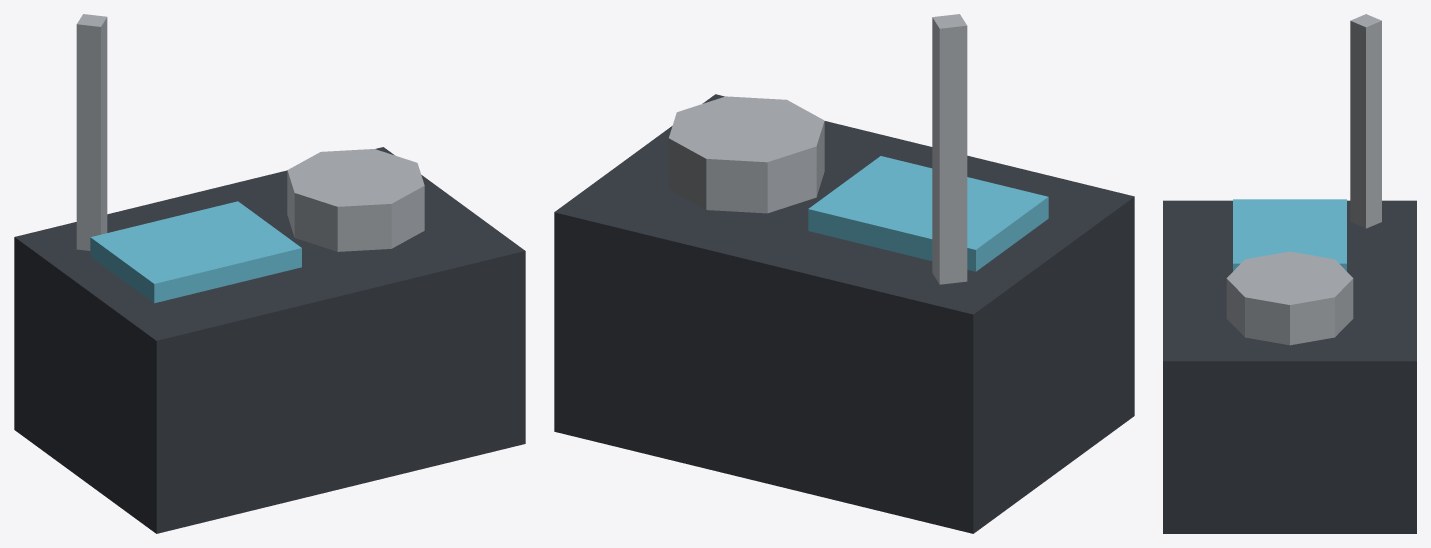
File: gadget.glb
The picture shows the model from 3 angles, left to right: view 1: azimuth 30°, elevation 25°; view 2: azimuth 150°, elevation 25°; view 3: azimuth 270°, elevation 25°; orthographic projection. The views are drawn at different scales.
Visible parts, largest first — view 1: m; view 2: m; view 3: m.
Part boxes in pixels (x1,y1,x2,y2): m: (14,14,525,533); m: (554,14,1134,533); m: (1163,14,1416,533).
Size of the model in its own units: 0.07 by 0.0793 by 0.0467.
